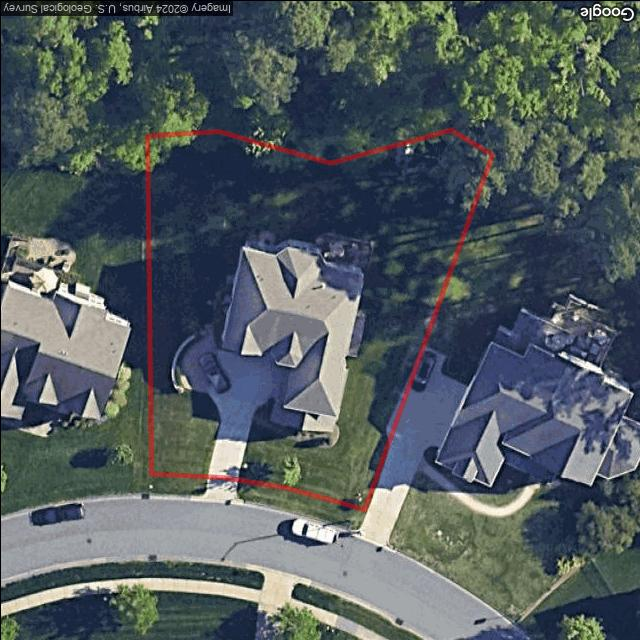Driveway: (176, 333, 282, 478)
Extra-Driveway: (204, 476, 237, 498)
Extra-Lawn: (235, 479, 363, 529), (150, 474, 207, 495)
House: (219, 235, 365, 432)
Lawn: (147, 129, 491, 510)
Other: (251, 417, 340, 448), (316, 231, 375, 269), (171, 333, 194, 389)
